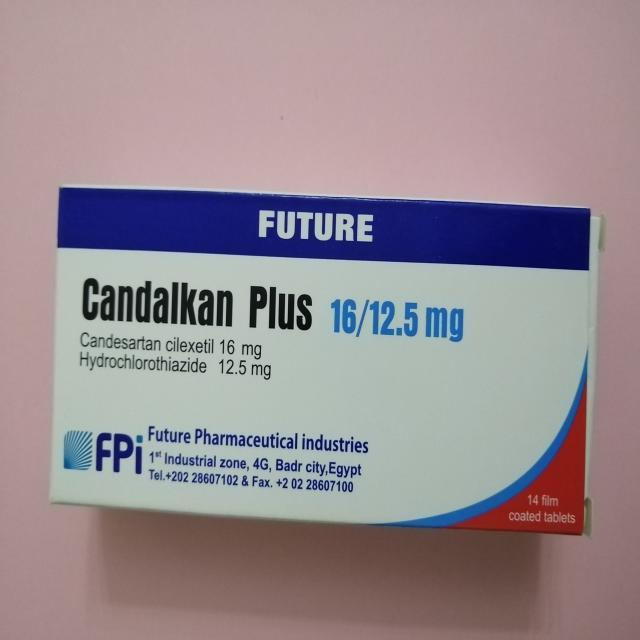Medicine Name: (79, 269, 315, 328)
